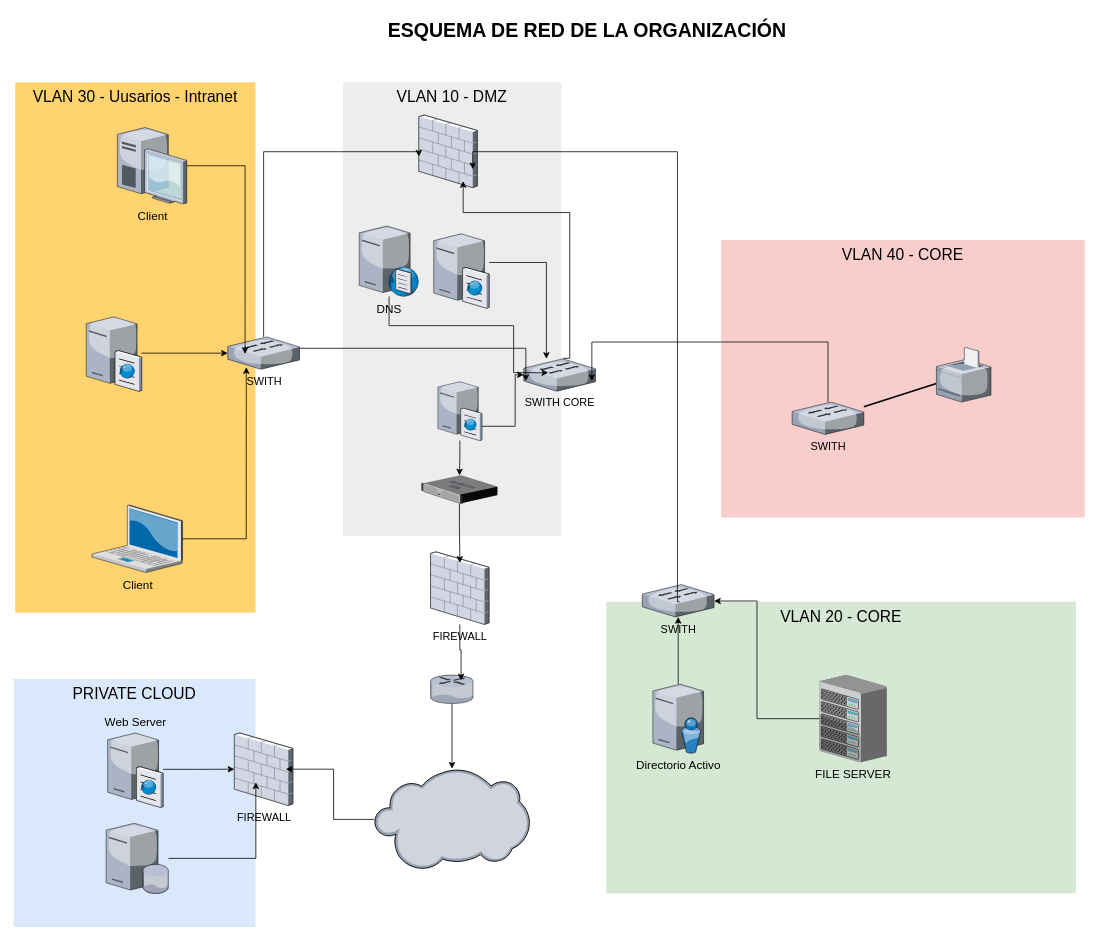
This 1097x940 diagram has some shape labels left out. Here are the shapes that lost their labels. From the top down, the centre of each, then its label:
point (461, 270): Gestor de contenido
point (113, 353): Portal Empleado
point (963, 374): Servidor de impresión
point (459, 410): PROXY
point (459, 489): IDS/IPS
point (451, 689): ROUTER
point (451, 819): ISP
point (137, 858): Base de Datos
